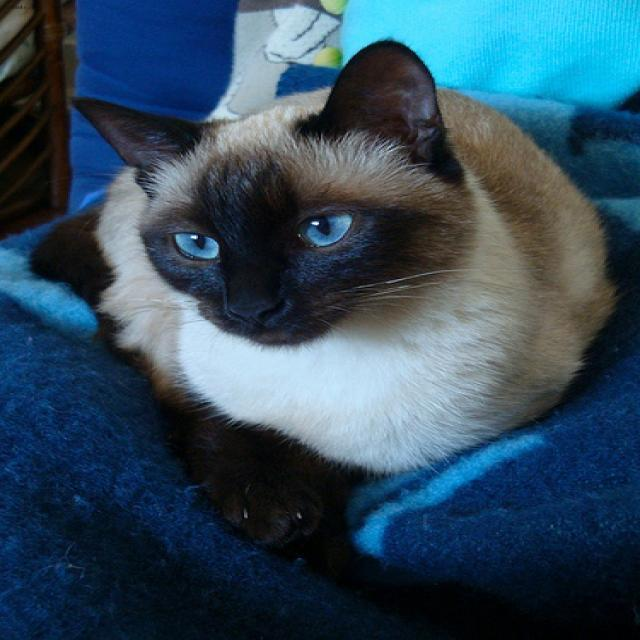Siamese: (70, 38, 445, 342)
